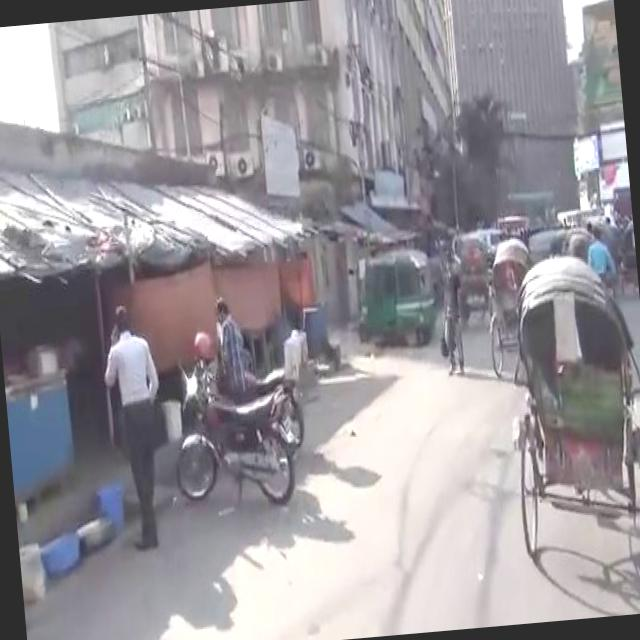motorcycle: (494, 243, 640, 600), (156, 319, 304, 520), (352, 238, 436, 348), (478, 234, 540, 382), (447, 232, 494, 328), (526, 222, 564, 255)
